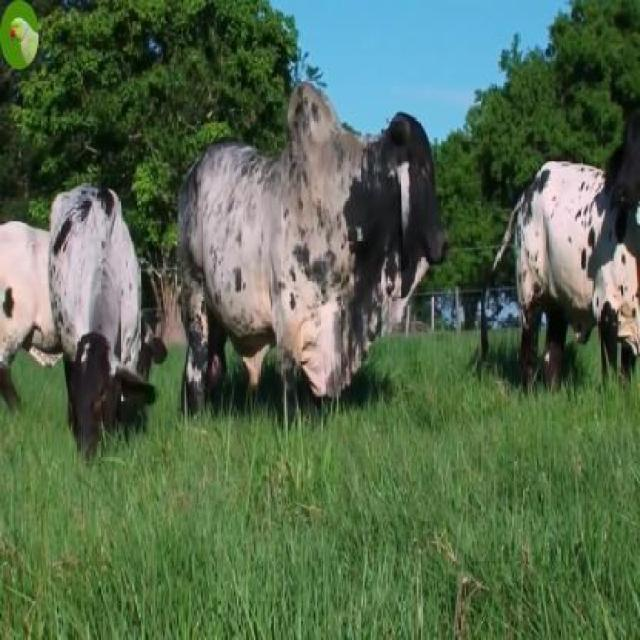Cow: (49, 185, 146, 460)
